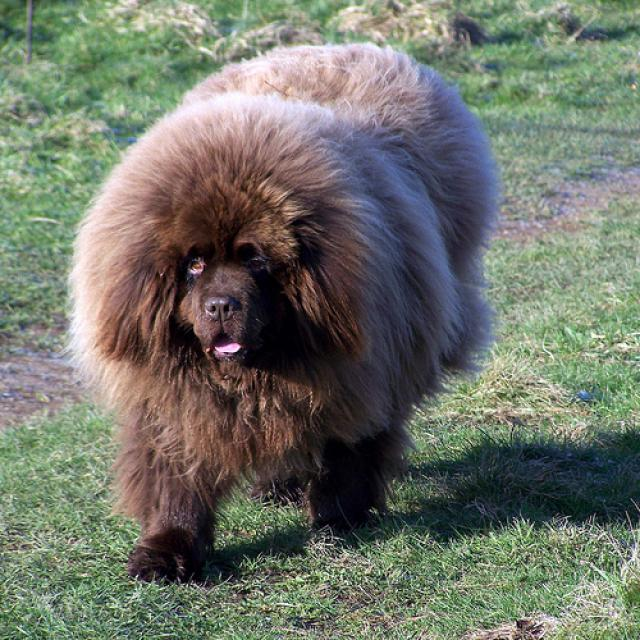dog-newfoundland: (63, 36, 502, 584)
